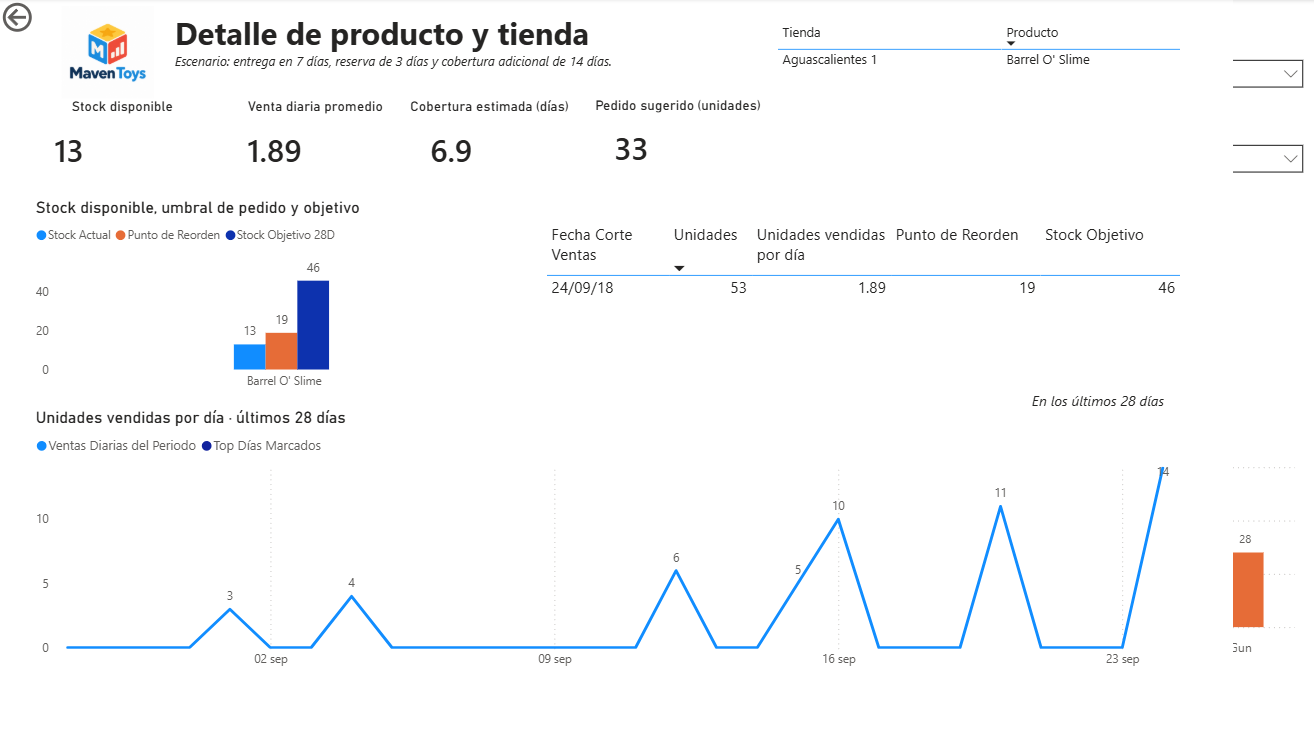

What the dashboard file says about the page in this screenshot:
{"tool":"powerbi","page":{"name":"Detalle de producto y tienda","canvas":[1280,720],"ordinal":2},"visuals":[{"type":"textbox","box":[178,7.8,500.9,89.5],"z":0},{"type":"cardVisual","title":"Stock disponible","fields":{"Data":["Medidas_2.Stock Actual"]},"box":[34.7,104,189.3,84],"z":1000},{"type":"cardVisual","title":"Cobertura estimada (días)","fields":{"Data":["Medidas_4.Cobertura 28D"]},"box":[424,104,170.7,84],"z":2000},{"type":"cardVisual","title":"Venta diaria promedio","fields":{"Data":["Medidas_4.Venta Diaria 28D"]},"box":[234.7,104,189.3,84],"z":3000},{"type":"cardVisual","title":"Pedido sugerido (unidades)","fields":{"Data":["Medidas_4.Reposición Total 28D"]},"box":[614.7,102.3,179.8,84],"z":4000},{"type":"clusteredColumnChart","title":"Stock disponible, umbral de pedido y objetivo","fields":{"Category":["Productos.Product_Name"],"Y":["Medidas_2.Stock Actual","Medidas_4.Punto de Reorden","Medidas_4.Stock Objetivo 28D"]},"box":[34.4,207.8,501.7,207.8],"z":5000},{"type":"tableEx","fields":{"Values":["Medidas_4.Fecha Corte Ventas","Medidas_4.Unidades Últimos 28 Días","Medidas_4.Venta Diaria 28D","Medidas_4.Punto de Reorden","Medidas_4.Stock Objetivo 28D"]},"box":[562.8,228,668.5,174.1],"z":6000},{"type":"lineChart","title":"Unidades vendidas por día · últimos 28 días","fields":{"Y":["Medidas_3.Ventas Diarias del Periodo","Medidas_3.Top Días Marcados"],"Category":["Calendario.Fecha.Variation.Jerarquía de fechas.Año","Calendario.Fecha.Variation.Jerarquía de fechas.Trimestre","Calendario.Fecha.Variation.Jerarquía de fechas.Mes","Calendario.Fecha.Variation.Jerarquía de fechas.Día"]},"box":[34.4,425.2,1196,278.8],"z":7000},{"type":"actionButton","box":[0,0,100,40],"z":8000},{"type":"tableEx","fields":{"Values":["Tiendas.Nombre Tienda Corto","Productos.Product_Name"]},"box":[802,20.5,428.5,78.6],"z":9000},{"type":"image","box":[49.6,7.8,128.4,96.3],"z":10000},{"type":"textbox","box":[1066.5,402.1,164.8,44.6],"z":11000}]}

Visuals, with their boxes in screenshot pixels (x1, y1, x2, y2), scaled from the page's 1280x720 canvas onto the 1314x737 screenshot:
textbox: 183/8/697/100
"Stock disponible" cardVisual: 36/106/230/192
"Cobertura estimada (días)" cardVisual: 435/106/610/192
"Venta diaria promedio" cardVisual: 241/106/435/192
"Pedido sugerido (unidades)" cardVisual: 631/105/816/191
"Stock disponible, umbral de pedido y objetivo" clusteredColumnChart: 35/213/550/425
tableEx - Medidas_4.Fecha Corte Ventas x Medidas_4.Unidades Últimos 28 Días: 578/233/1264/412
"Unidades vendidas por día · últimos 28 días" lineChart: 35/435/1263/721
actionButton: 0/0/103/41
tableEx - Tiendas.Nombre Tienda Corto x Productos.Product_Name: 823/21/1263/101
image: 51/8/183/107
textbox: 1095/412/1264/457
